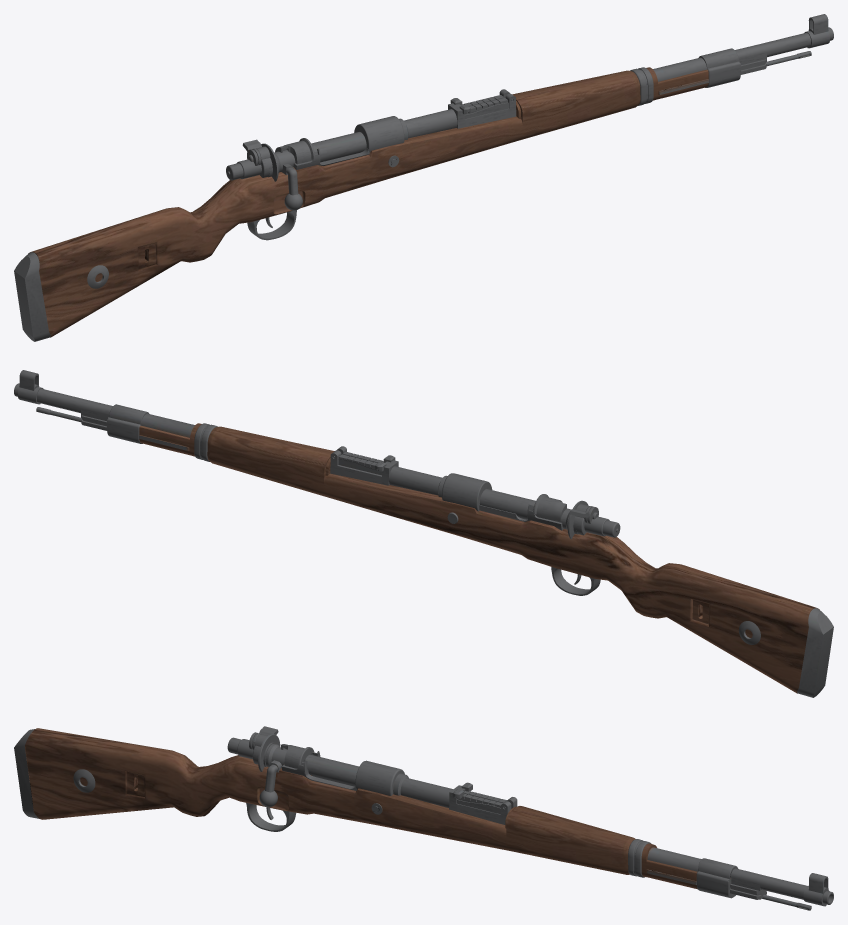
The model's file is rifle.glb.
The picture shows the model from 3 angles, top to bottom: view 1: azimuth 30°, elevation 25°; view 2: azimuth 150°, elevation 25°; view 3: azimuth 330°, elevation 25°; orthographic projection.
Visible parts, largest first — view 1: Plane; view 2: Plane; view 3: Plane.
Boxes of the visible parts, x1,y1,x2,y2 form: Plane: (14, 14, 833, 341); Plane: (14, 370, 833, 697); Plane: (14, 726, 833, 910).
Size of the model in its own units: 4.82 by 0.7808 by 0.2917.
2 materials, 2 textured.
